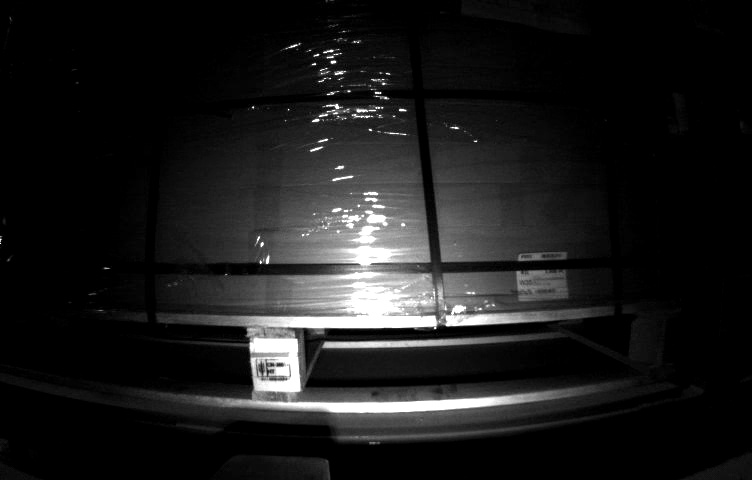True Barcode: (518, 253, 569, 298)
